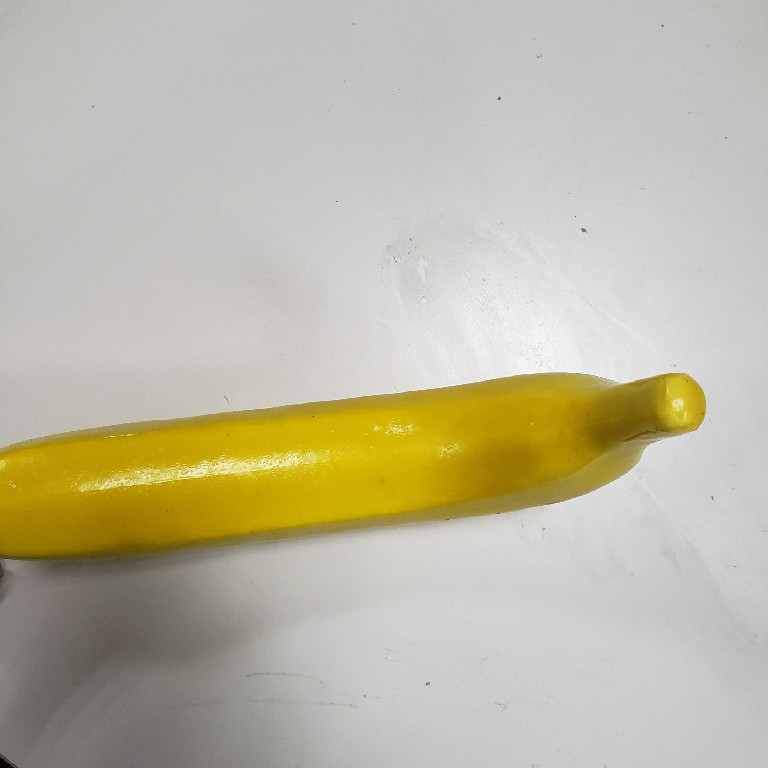fruit_banana: (1, 365, 710, 567)
